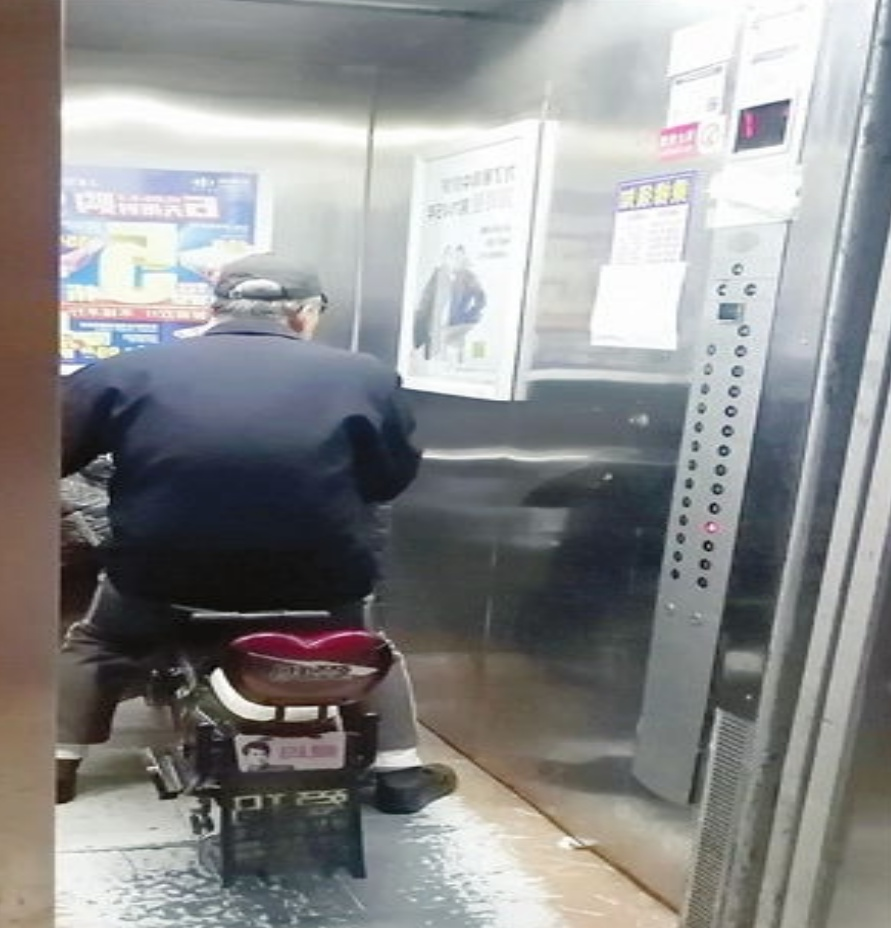ebike: (137, 602, 382, 887)
person: (59, 247, 431, 804)
